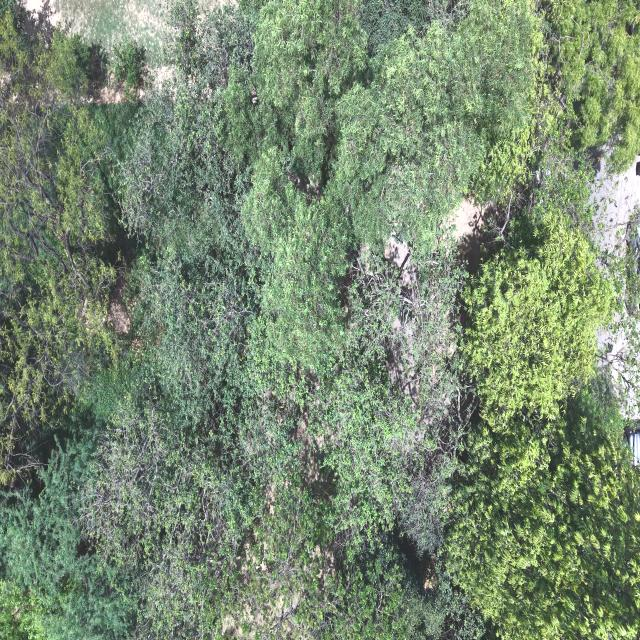VEGETATION_TREE: (0, 0, 639, 639), (225, 1, 534, 362), (0, 10, 119, 484), (448, 396, 639, 639), (461, 178, 613, 424), (0, 415, 137, 639), (462, 224, 612, 420), (549, 1, 639, 171), (111, 41, 145, 99)
